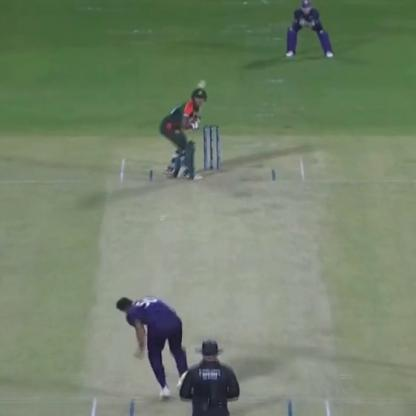ball: (153, 210, 172, 226)
bat: (184, 77, 206, 121)
pitch: (84, 145, 344, 416)
